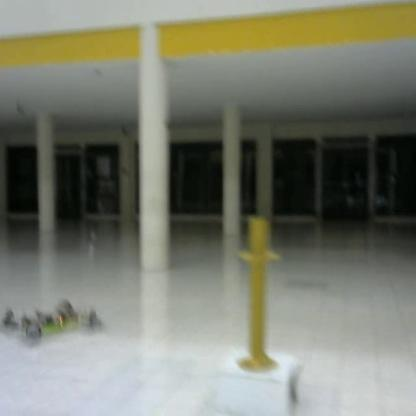pole: (234, 215, 287, 379)
